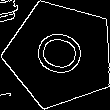O_E: (28, 26, 92, 82)
